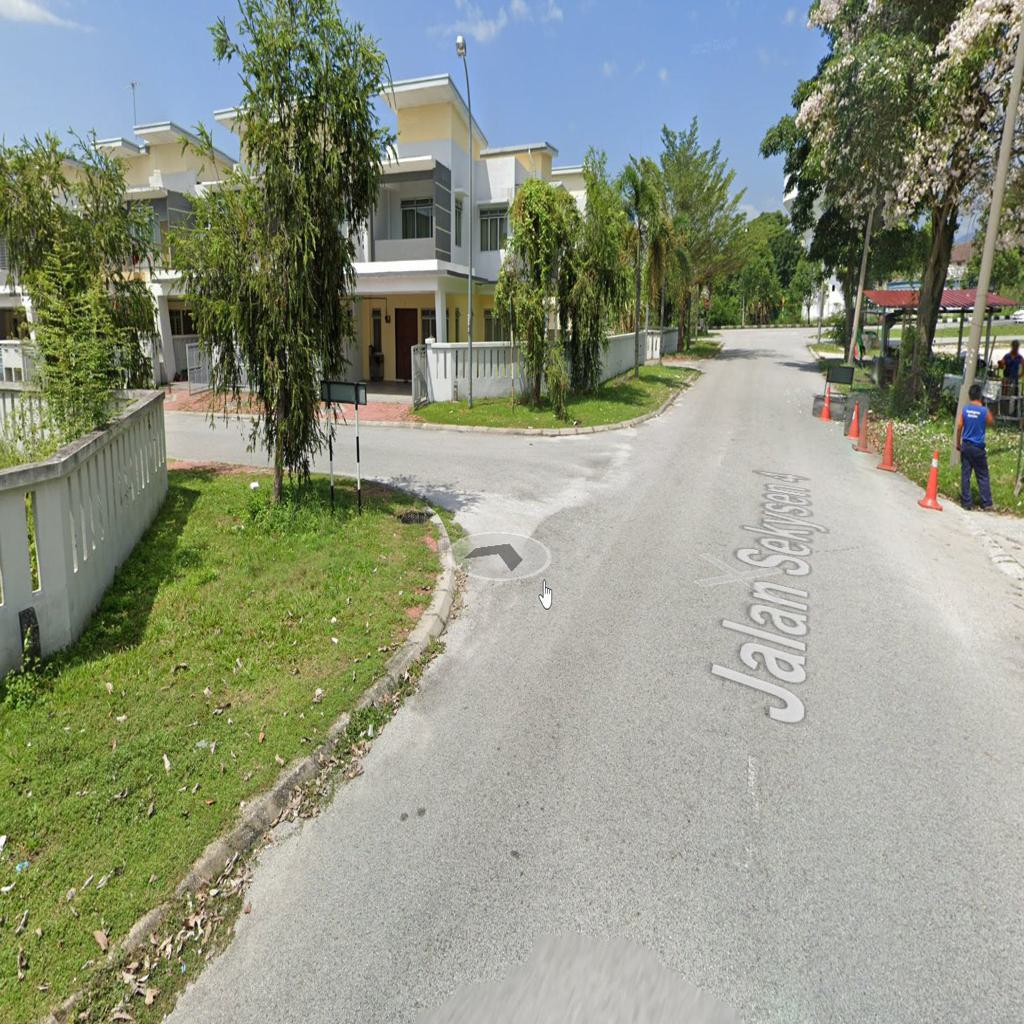Junction: (302, 357, 661, 627)
